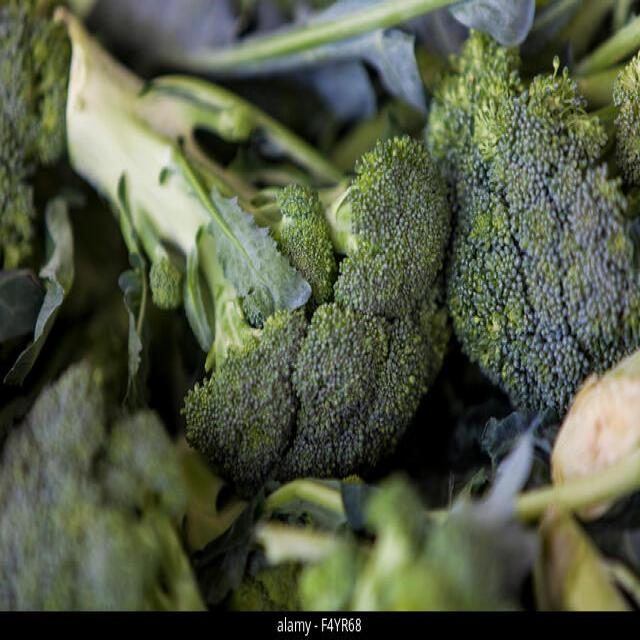broccoli: (20, 0, 451, 483)
